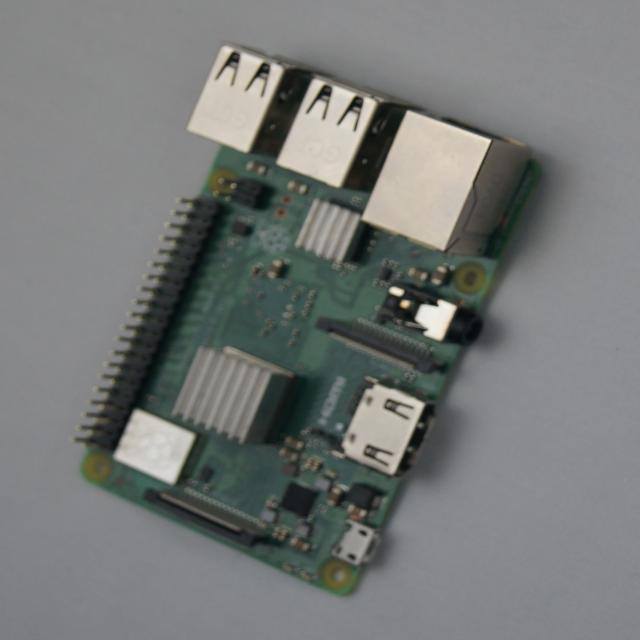Raspberry Pi 3 B-: (77, 49, 537, 595)
